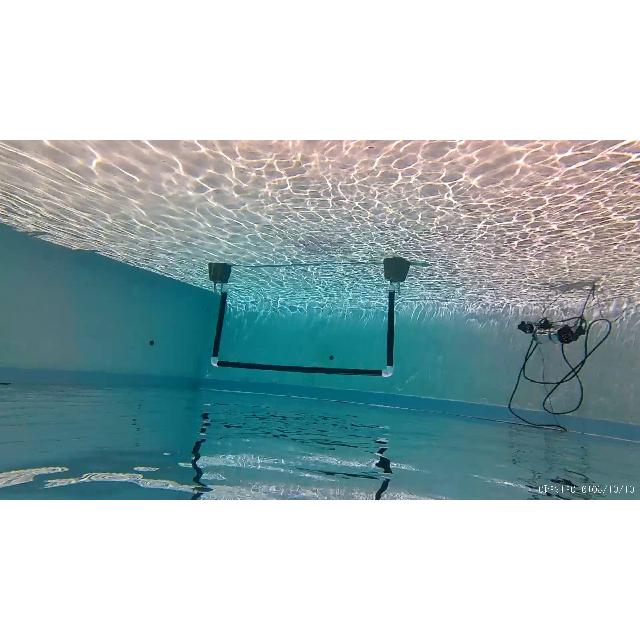prequal gate: (209, 284, 397, 378)
prequal gate leg l: (380, 284, 398, 380)
prequal gate leg r: (210, 281, 232, 371)
